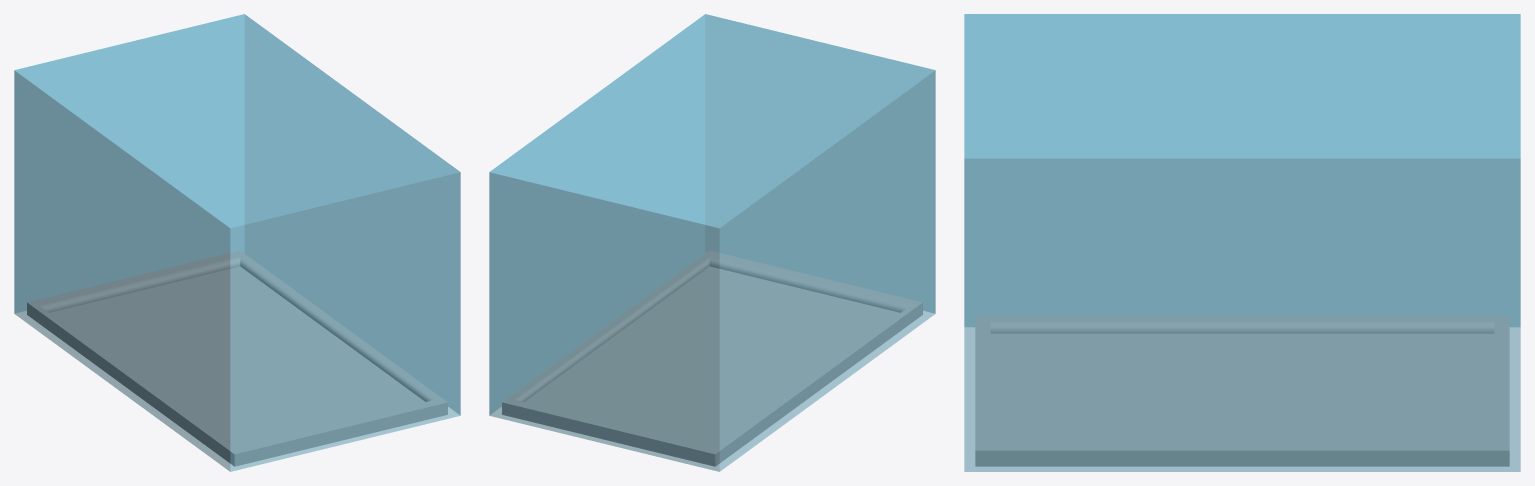
File: Stand1_Glass.FBX
3 views of the same model, side by side, from view 1: azimuth 30°, elevation 25°; view 2: azimuth 150°, elevation 25°; view 3: azimuth 270°, elevation 25° (orthographic). The views are drawn at different scales.
Parts seen in each view (by area): view 1: Glass, Bottom; view 2: Glass, Bottom; view 3: Glass, Bottom.
Boxes of the visible parts, x1=… form: Glass: x1=14, y1=14, x2=460, y2=471; Bottom: x1=27, y1=250, x2=447, y2=466; Glass: x1=489, y1=14, x2=935, y2=471; Bottom: x1=502, y1=250, x2=922, y2=466; Glass: x1=964, y1=14, x2=1520, y2=471; Bottom: x1=975, y1=316, x2=1509, y2=466.
Bounding box in the file's own units: 193 × 195 × 314.
